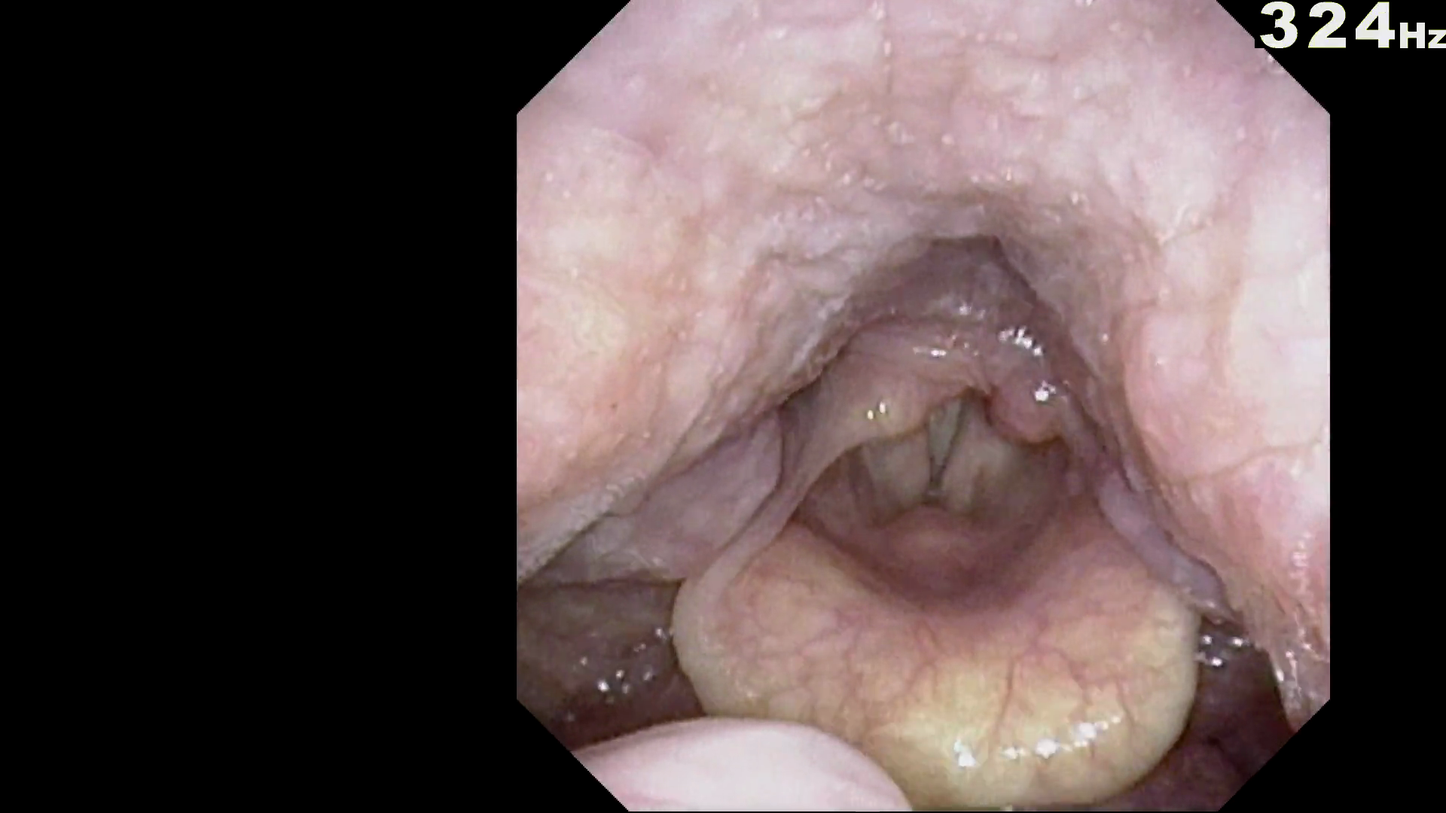epiglottis: (673, 572, 1214, 775)
trachea: (877, 378, 1032, 551)
